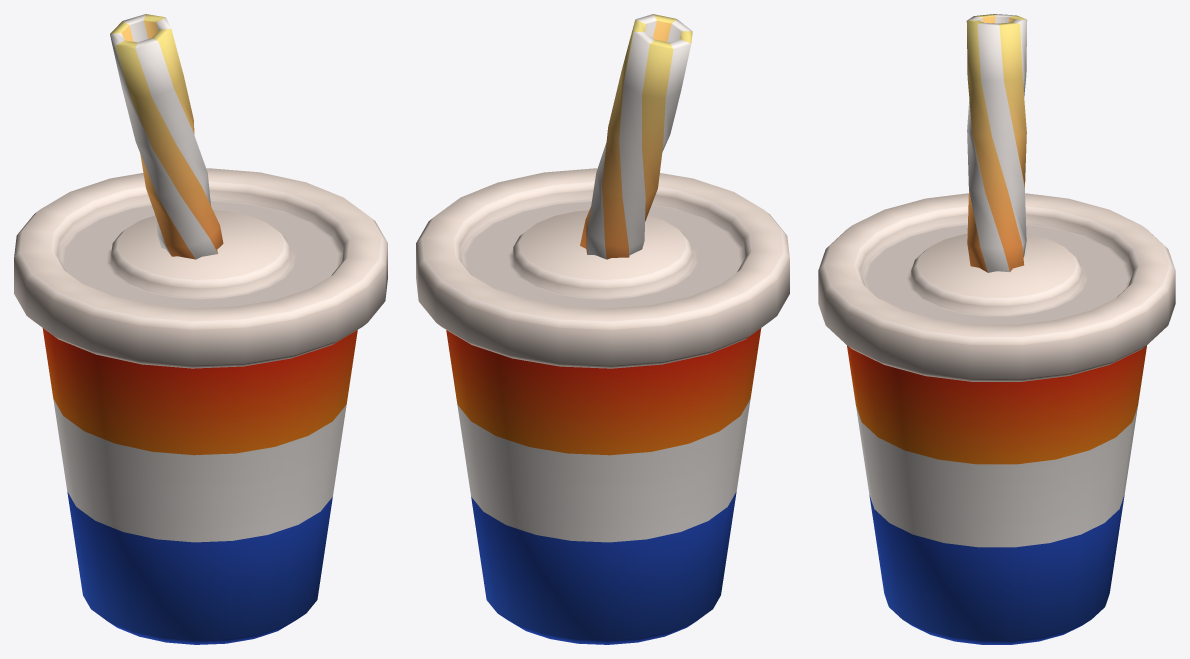
Rendered from lpb_food_soda.fbx.
3 renders of one model, left to right at view 1: azimuth 30°, elevation 25°; view 2: azimuth 150°, elevation 25°; view 3: azimuth 270°, elevation 25°, orthographic. The views are drawn at different scales.
Parts seen in each view (by area): view 1: soda; view 2: soda; view 3: soda.
Part boxes in pixels (x1,y1,x2,y2): soda: (14,14,387,644); soda: (416,14,789,644); soda: (818,14,1175,644).
Bounding box in the file's own units: 35.95 × 62.96 × 36.32.
